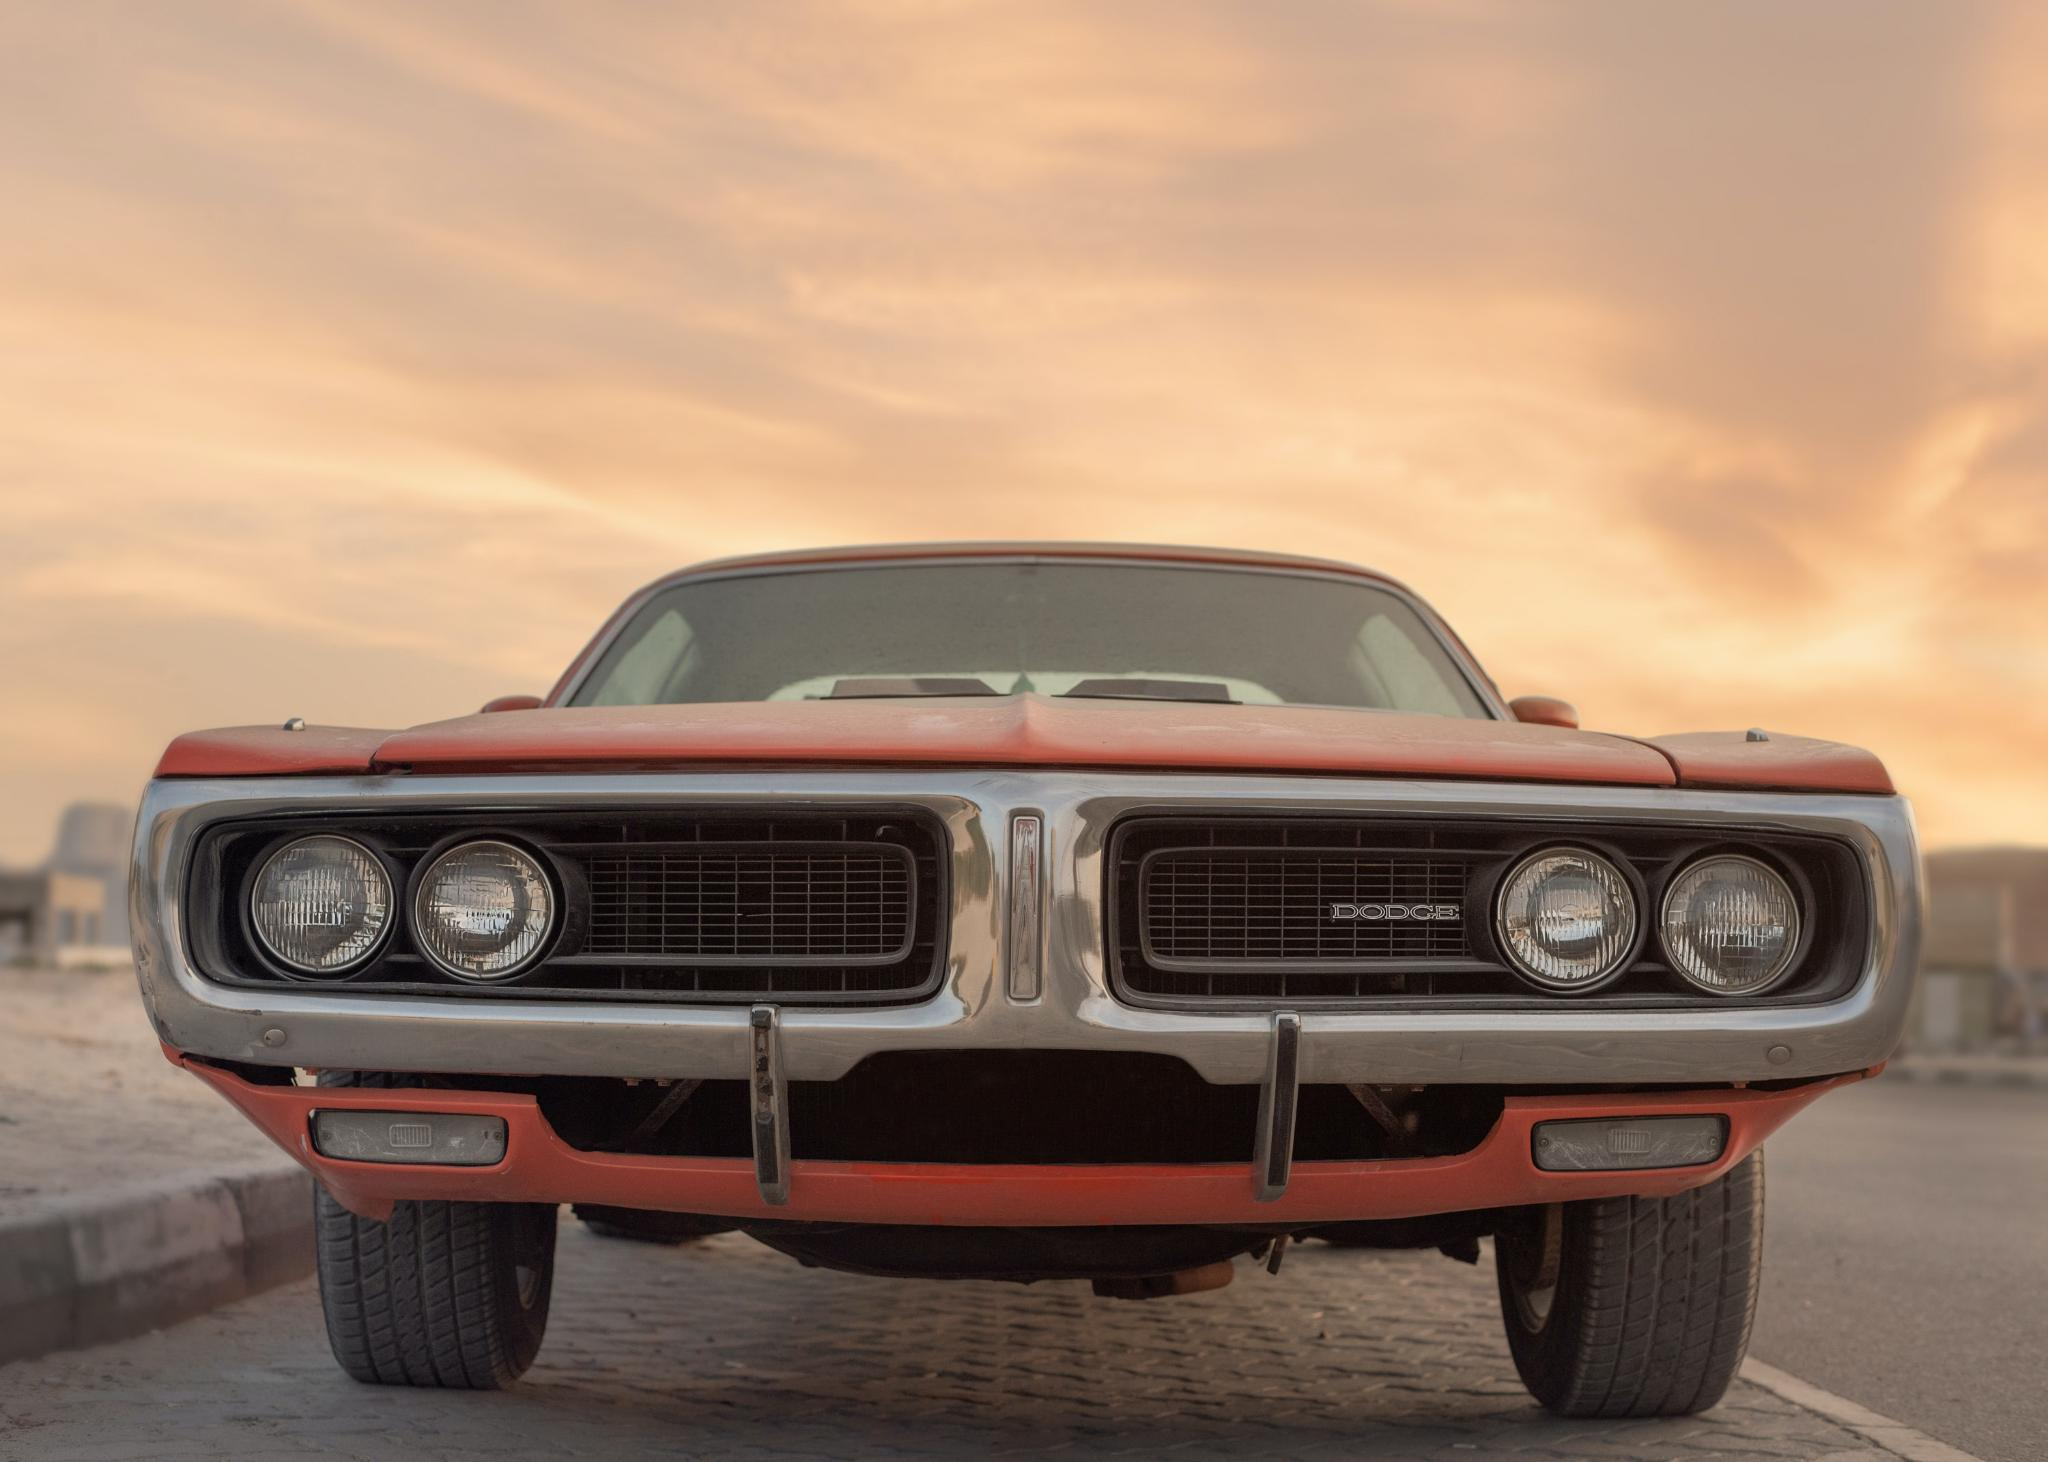dodge: (1320, 878, 1470, 942)
